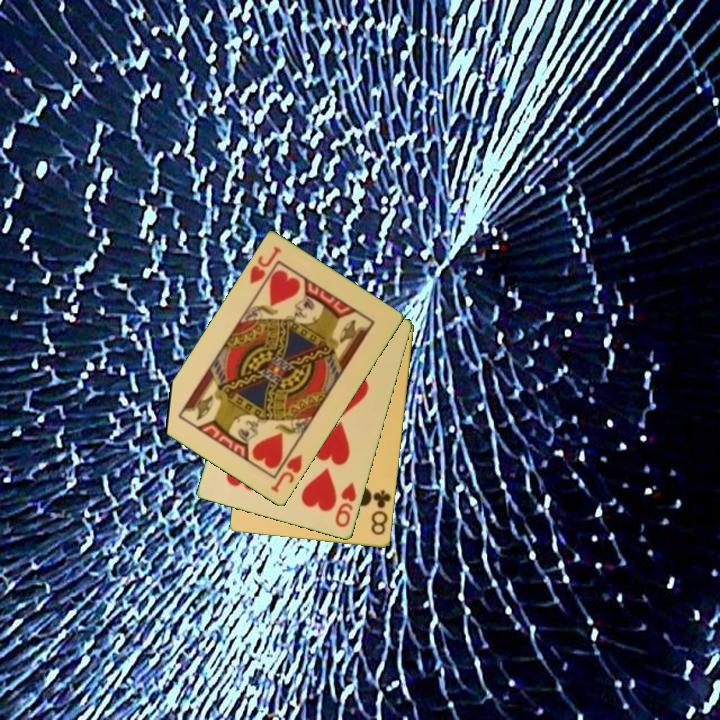8c: (368, 486, 394, 539)
9h: (332, 479, 360, 531)
Jh: (246, 243, 285, 288), (267, 451, 305, 496)
